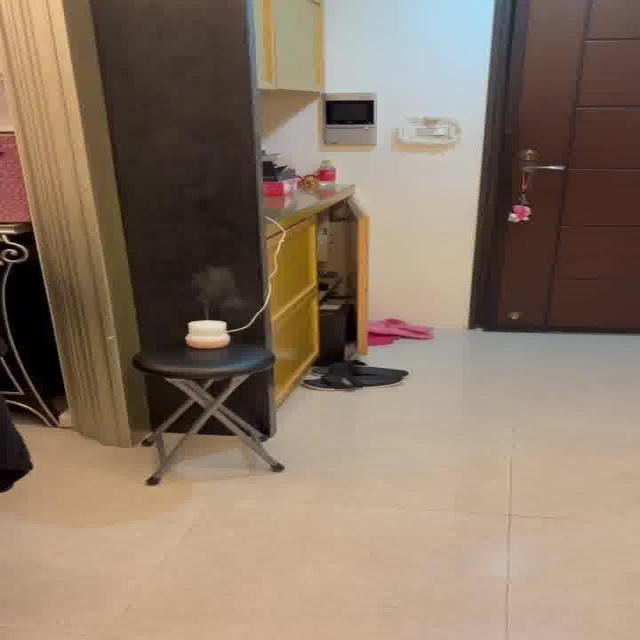fire: (188, 264, 248, 316)
